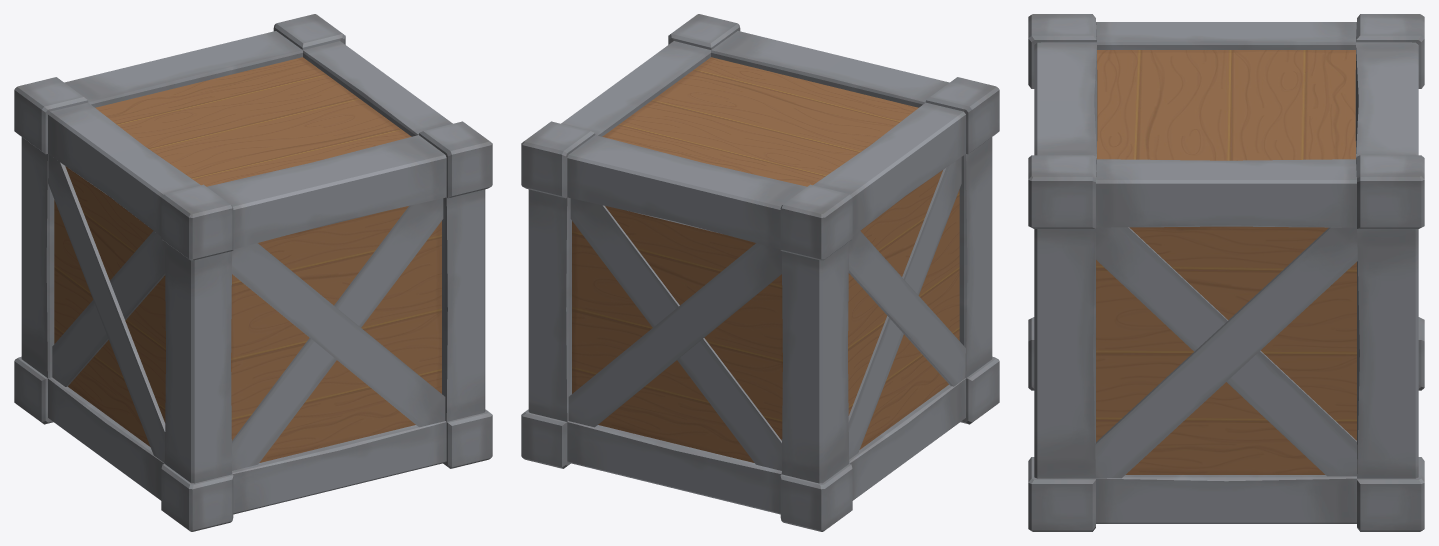
The model's file is CarriableObject.fbx.
The picture shows the model from 3 angles, left to right: view 1: azimuth 30°, elevation 25°; view 2: azimuth 150°, elevation 25°; view 3: azimuth 270°, elevation 25°; orthographic projection. The views are drawn at different scales.
Visible parts, largest first — view 1: Box, Crosses; view 2: Box, Crosses; view 3: Box, Crosses.
Boxes of the visible parts, x1=… form: Box: x1=14, y1=14, x2=492, y2=531; Crosses: x1=48, y1=154, x2=445, y2=470; Box: x1=521, y1=14, x2=999, y2=531; Crosses: x1=568, y1=157, x2=965, y2=470; Box: x1=1028, y1=14, x2=1424, y2=531; Crosses: x1=1095, y1=227, x2=1357, y2=478.
Bounding box in the file's own units: 2.16 × 2.16 × 2.18.
